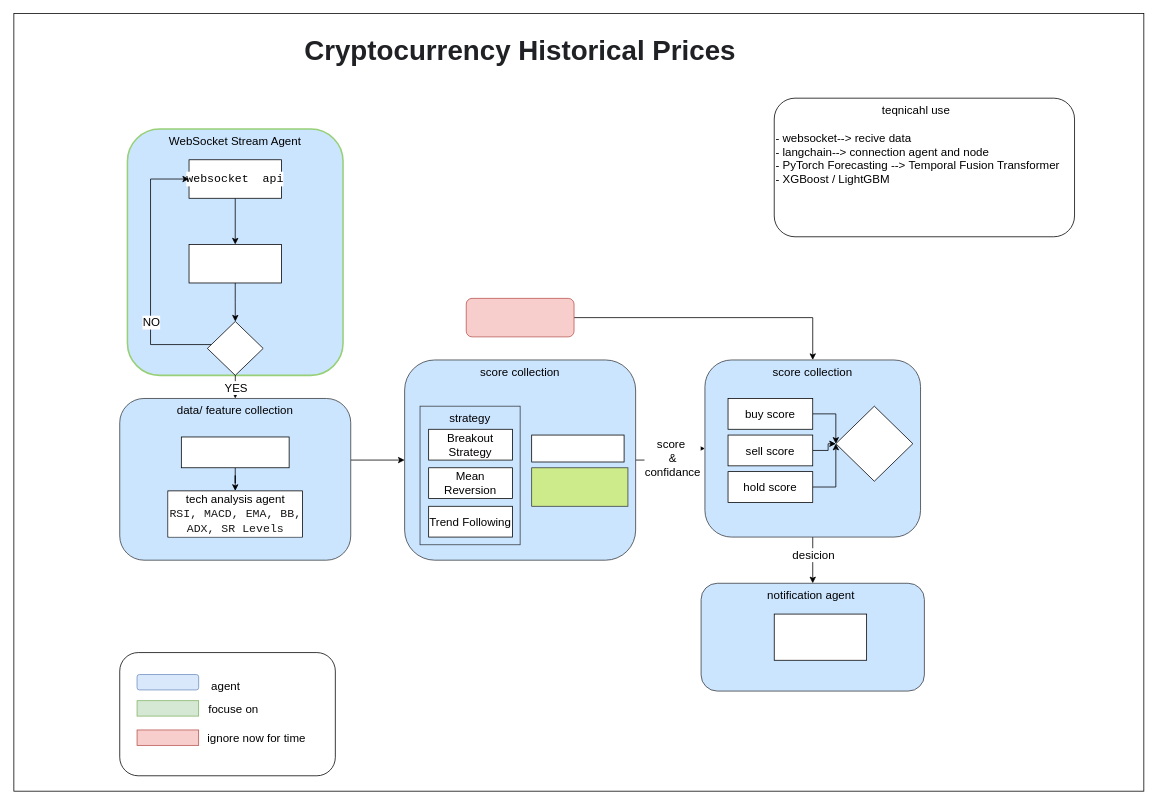
This 1157x805 diagram has some shape labels left out. The shapes that lost their labels are listed below. From the top down, each one's centre as x and y in pixels, then its label:
At pixel 234 263: "candle builder".
At pixel 519 317: "news sentimant".
At pixel 235 348: "candle close?".
At pixel 235 452: "history OHLCV".
At pixel 577 448: "ml model".
At pixel 874 443: "select hight score".
At pixel 579 486: "Temporal Transformer (TFT)".
At pixel 820 636: "send notification for telegrame".
